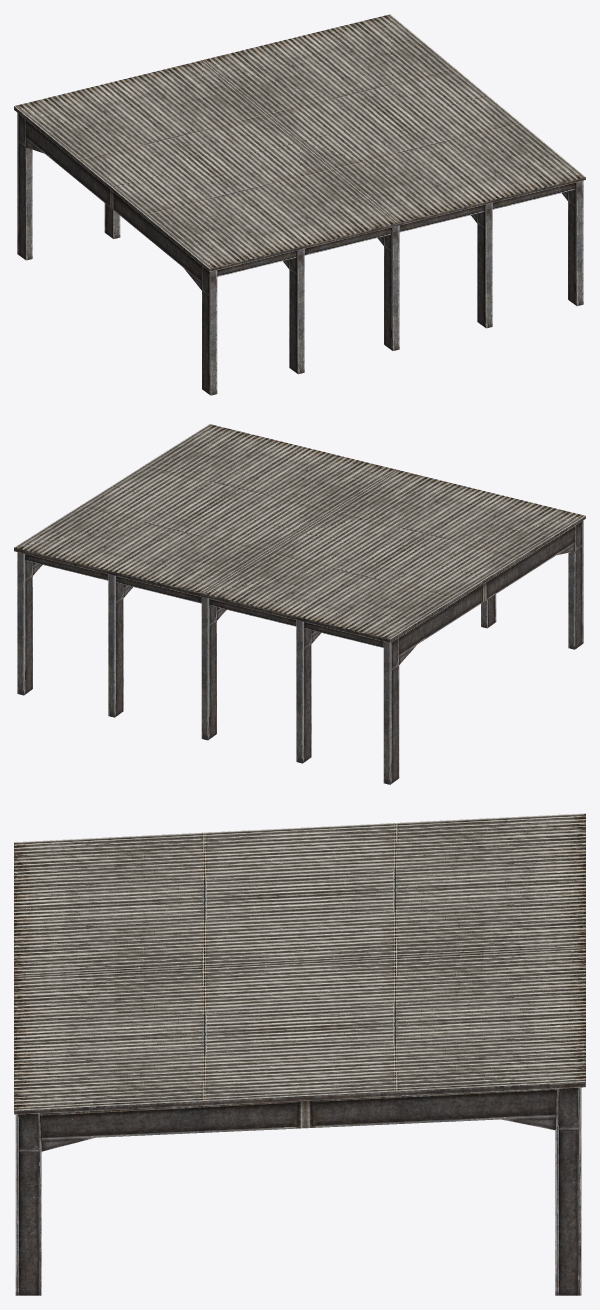
The model's file is shed_01.FBX.
The picture shows the model from 3 angles, top to bottom: view 1: azimuth 30°, elevation 25°; view 2: azimuth 150°, elevation 25°; view 3: azimuth 270°, elevation 25°; orthographic projection. The views are drawn at different scales.
Visible parts, largest first — view 1: Object058; view 2: Object058; view 3: Object058.
Boxes of the visible parts, x1=… form: Object058: x1=14, y1=14, x2=585, y2=395; Object058: x1=14, y1=424, x2=585, y2=784; Object058: x1=14, y1=813, x2=585, y2=1295.
Bounding box in the file's own units: 786 × 708 × 293.
Materials: 1 (1 with a texture image).
